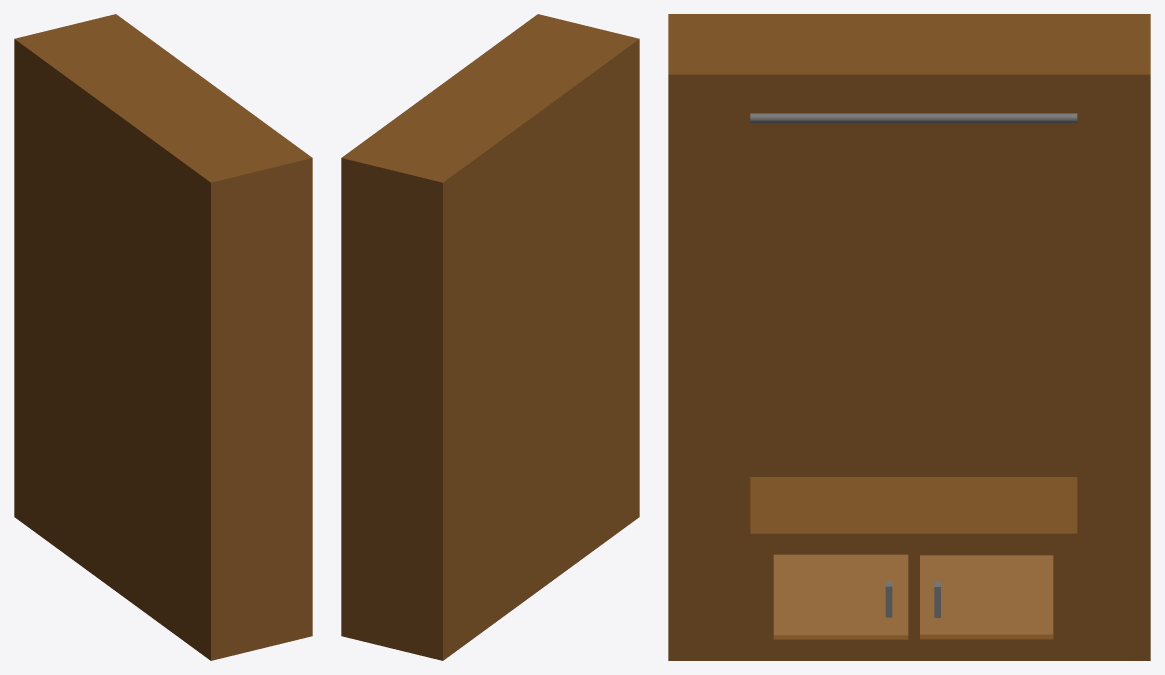
Rendered from closet6.fbx.
3 views of the same model, side by side, from view 1: azimuth 30°, elevation 25°; view 2: azimuth 150°, elevation 25°; view 3: azimuth 270°, elevation 25° (orthographic). The views are drawn at different scales.
Parts seen in each view (by area): view 1: Cube.014; view 2: Cube.014; view 3: Cube.014, Cylinder.005.
Part boxes in pixels (bbox=[...]): Cube.014: bbox=[14, 14, 312, 660]; Cube.014: bbox=[341, 14, 639, 660]; Cube.014: bbox=[668, 14, 1150, 660]; Cylinder.005: bbox=[750, 113, 1077, 122].
Bounding box in the file's own units: 518 × 2109 × 1572.
